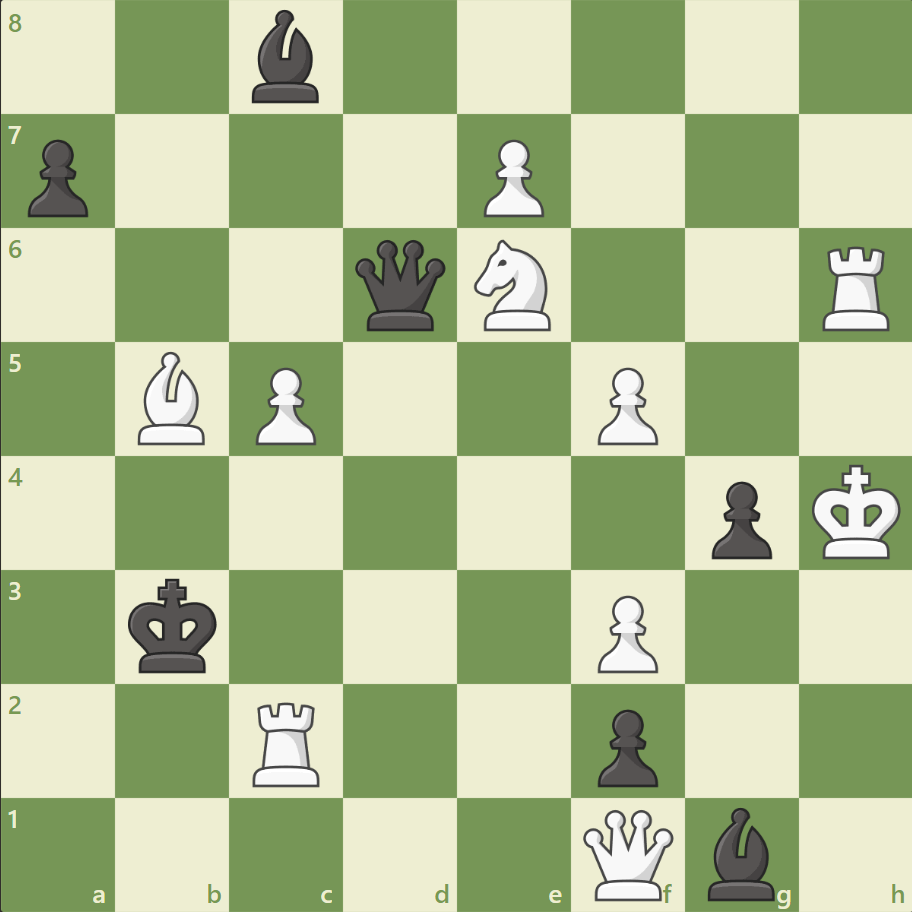B: (131, 347, 215, 449)
K: (806, 458, 906, 566)
N: (465, 234, 562, 337)
P: (474, 132, 549, 223), (247, 359, 322, 450), (588, 359, 662, 450), (588, 586, 662, 677)
Q: (578, 804, 677, 903)
R: (814, 239, 897, 336), (246, 693, 329, 790)
b: (244, 6, 328, 109), (698, 801, 782, 904)
k: (124, 571, 224, 679)
p: (20, 132, 95, 223), (701, 473, 776, 564), (588, 700, 662, 791)
q: (351, 236, 450, 335)
